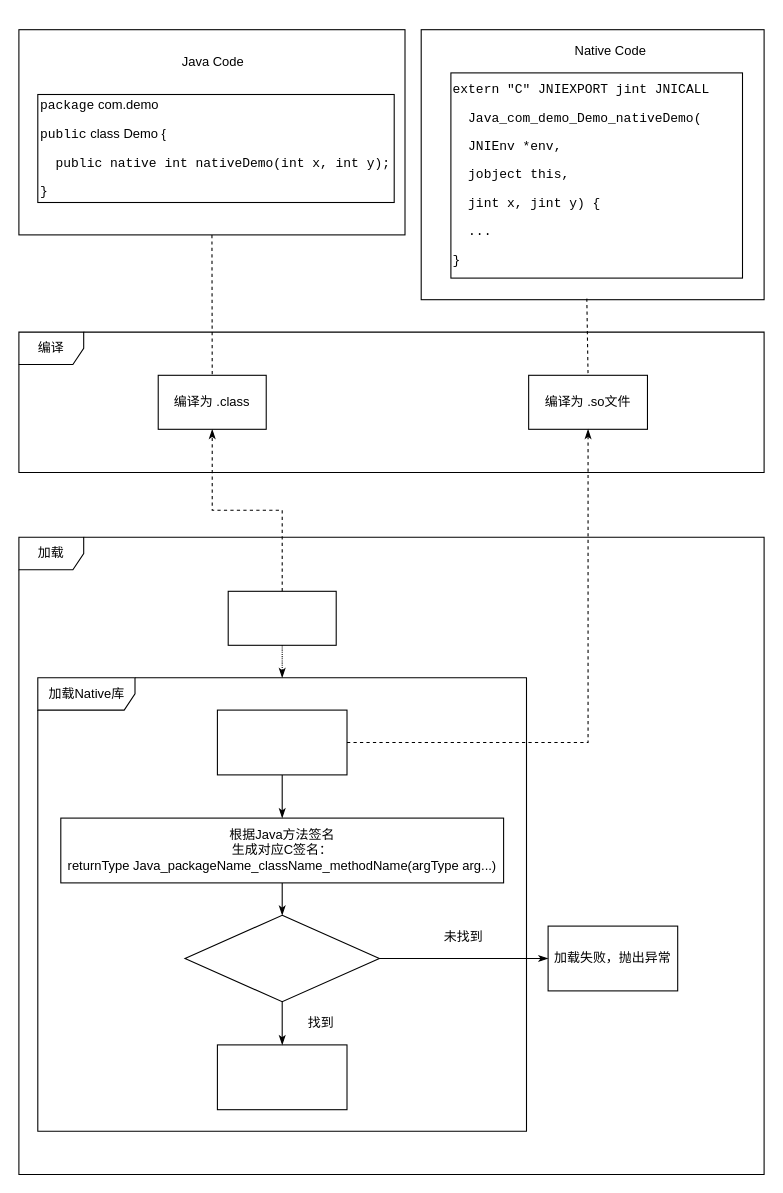
The diagram is 783 pixels wide and 1193 high, and some of its shapes have lost their labels. Each missing label, with the centre of its shape:
"加载Shared Object" goes at (281,742).
"加载成功，建立引用" goes at (281,1077).
"加载类" goes at (281,617).
"在So中搜索对应签名" goes at (281,958).
